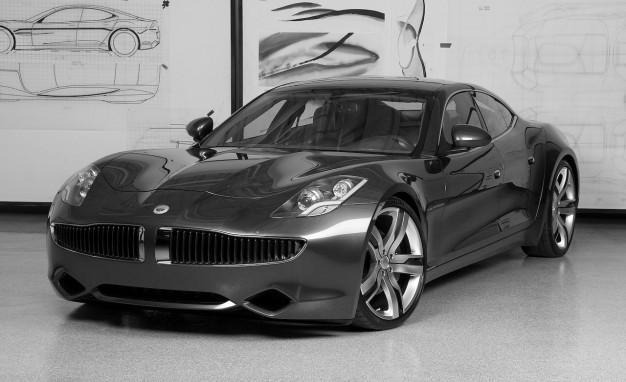car: (46, 78, 583, 334)
